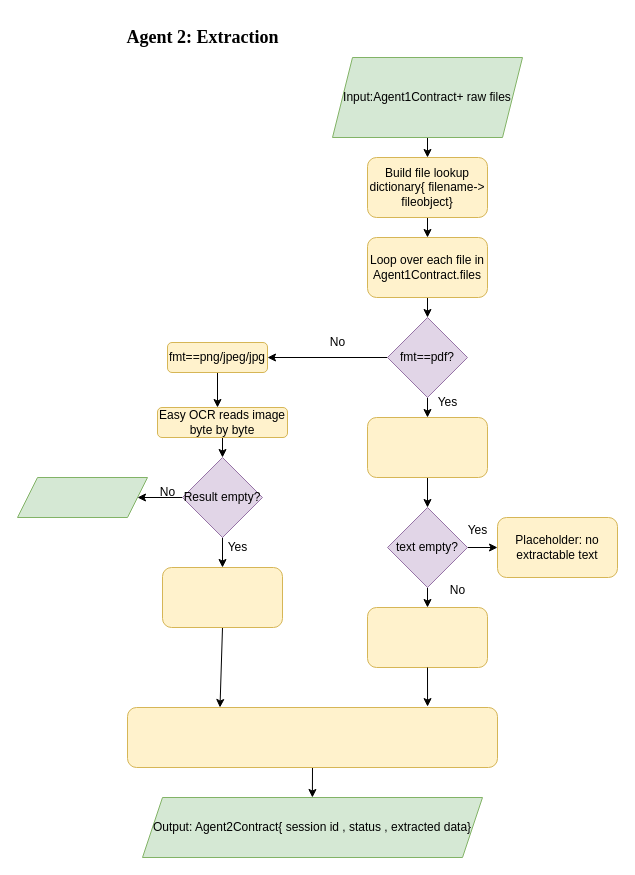
This 635x875 diagram has some shape labels left out. The box of each missing label's shape, as (x1, y1, x2, y2) in pixels:
Append page data(page number , raw text): (366, 606, 488, 668)
Append page data(page number,raw text): (162, 566, 282, 628)
Build the extracted file( file name, pages): (126, 706, 498, 768)
No text detected: (16, 476, 148, 518)
pdfplumber extracts the text page by page: (366, 416, 488, 478)
